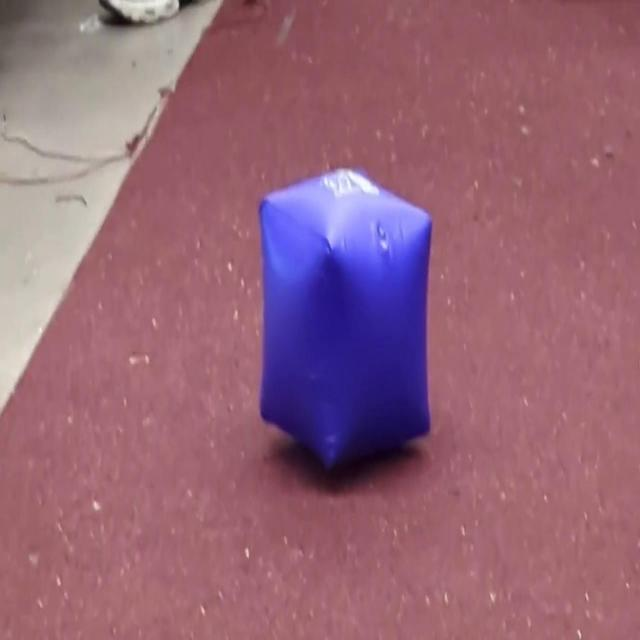frc_cube: (256, 166, 434, 478)
